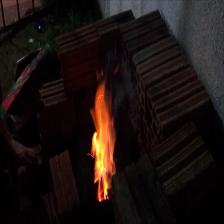fire: (85, 84, 119, 190)
